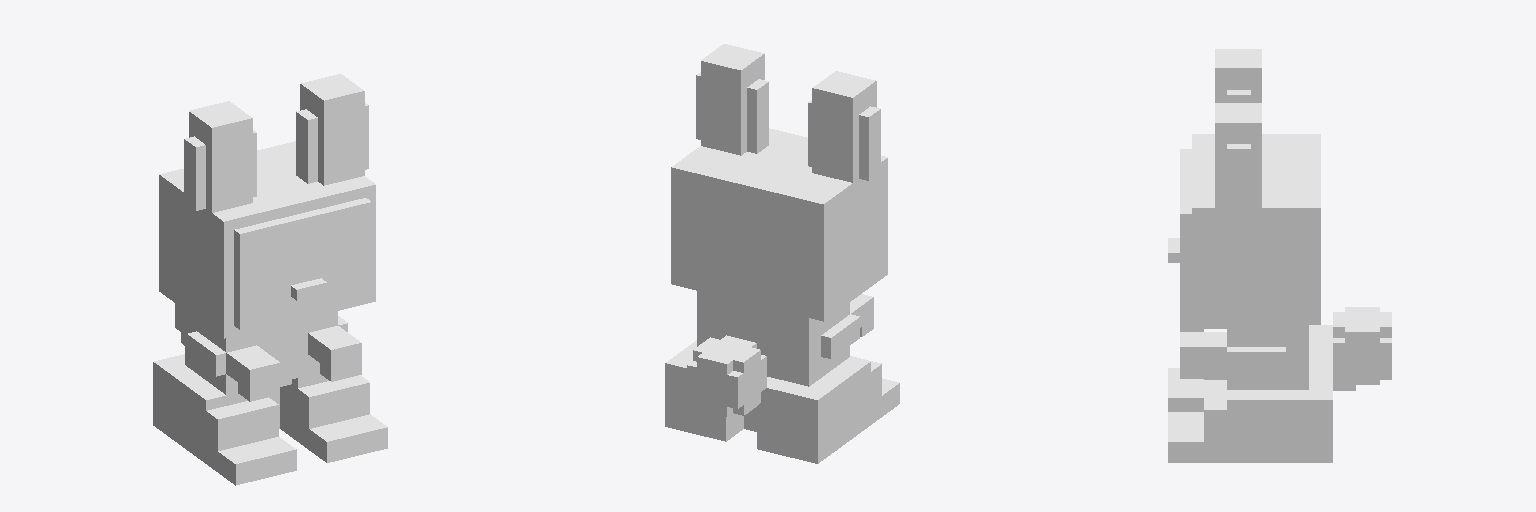
3 views of the same model, side by side, from view 1: azimuth 30°, elevation 25°; view 2: azimuth 150°, elevation 25°; view 3: azimuth 270°, elevation 25° (orthographic).
Visible parts, largest first — view 1: 톡히; view 2: 톡히; view 3: 톡히.
Part boxes in pixels (x1,y1,x2,y2): 톡히: (153,74,387,485); 톡히: (665,44,899,463); 톡히: (1168,49,1391,462).
Bounding box in the file's own units: 17 × 32 × 19.